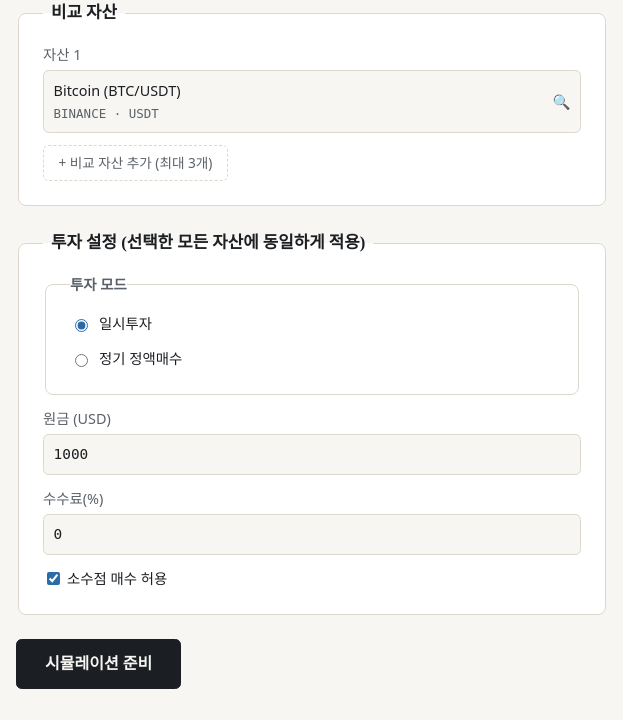
Test: SessionSetupForm › 정기 정액매수를 선택하면 원금 입력 대신 납입액·주기 입력이 나타난다
The width and height of the screenshot is (623, 720).
(page scrolled)
Expected: the field labelled "원금 (USD)" is shown, x1=43 y1=434 x2=581 y2=475
Step 1. Click the radio button labelled "정기 정액매수" → (82, 360), box x1=75 y1=354 x2=88 y2=367
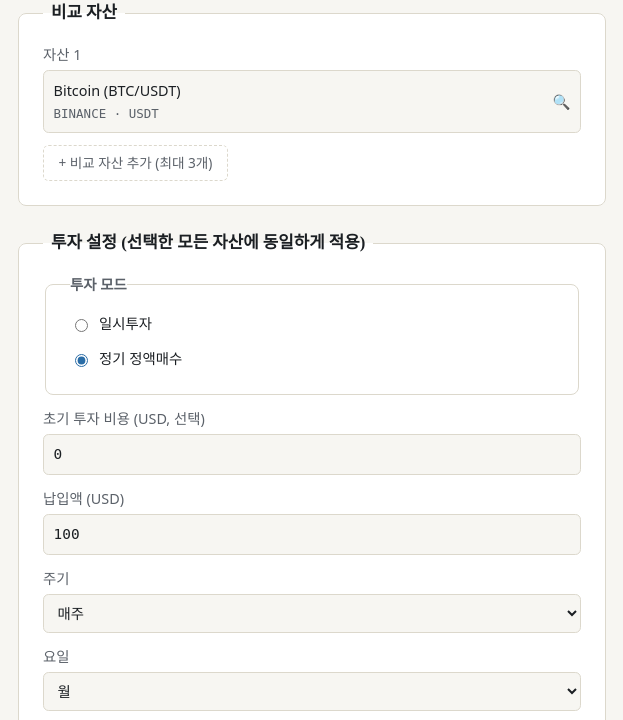
Expected: the field labelled "납입액 (USD)" is shown, x1=43 y1=514 x2=581 y2=555
Expected: the label labelled "원금" is gone
Expected: the dropdown labelled "주기" is shown, x1=43 y1=594 x2=581 y2=633
